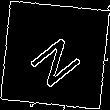N_NE: (22, 23, 88, 87)
